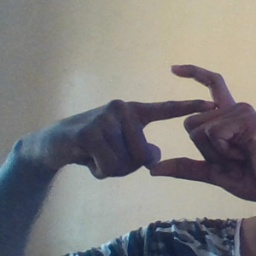E: (106, 59, 237, 178)
